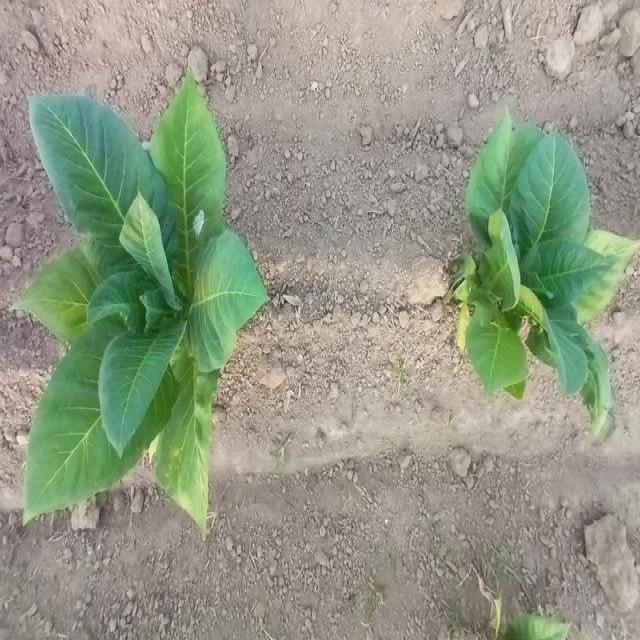crop: (35, 80, 255, 538), (471, 125, 629, 414)
